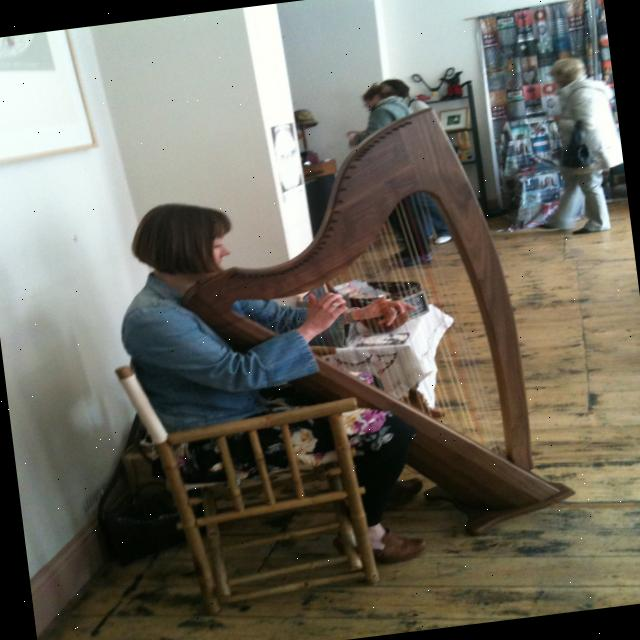harp: (157, 89, 582, 566)
